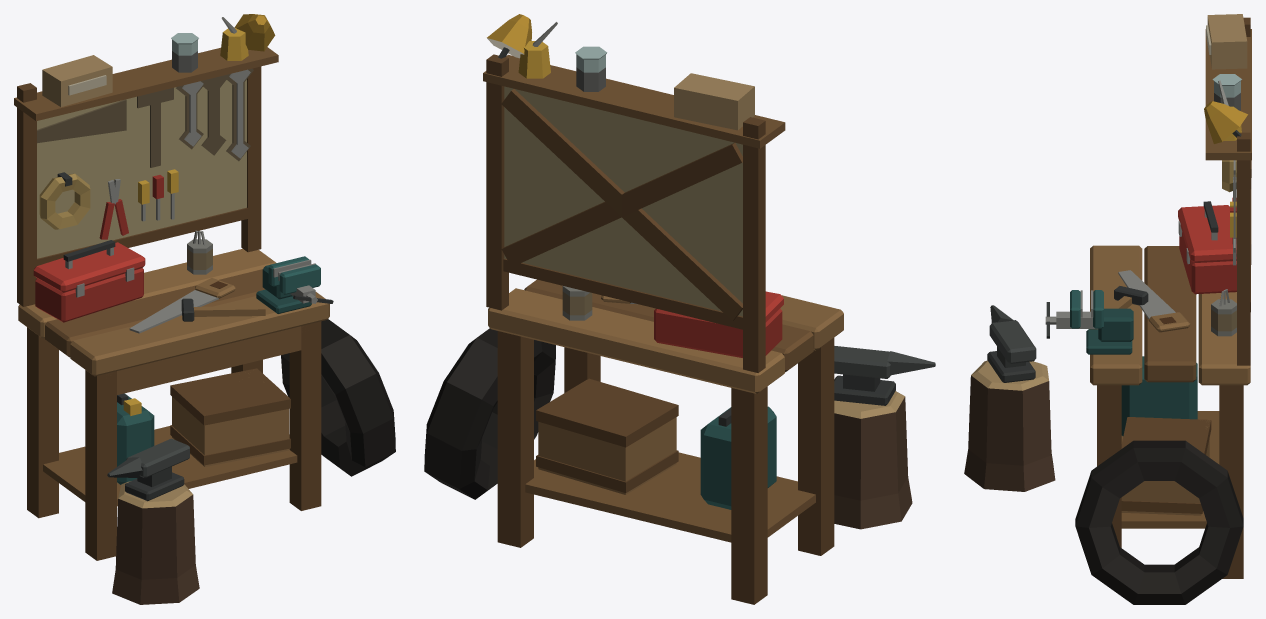
Rendered from estacao_oficina.glb.
The picture shows the model from 3 angles, left to right: view 1: azimuth 30°, elevation 25°; view 2: azimuth 150°, elevation 25°; view 3: azimuth 270°, elevation 25°; orthographic projection. The views are drawn at different scales.
Parts seen in each view (by area): view 1: estacao_oficina.001; view 2: estacao_oficina.001; view 3: estacao_oficina.001.
Boxes of the visible parts, left/top/right/bottom form: estacao_oficina.001: left=14, top=14, right=395, bottom=604; estacao_oficina.001: left=424, top=14, right=935, bottom=604; estacao_oficina.001: left=964, top=14, right=1251, bottom=604.
Bounding box in the file's own units: 1.54 × 1.94 × 1.06.
